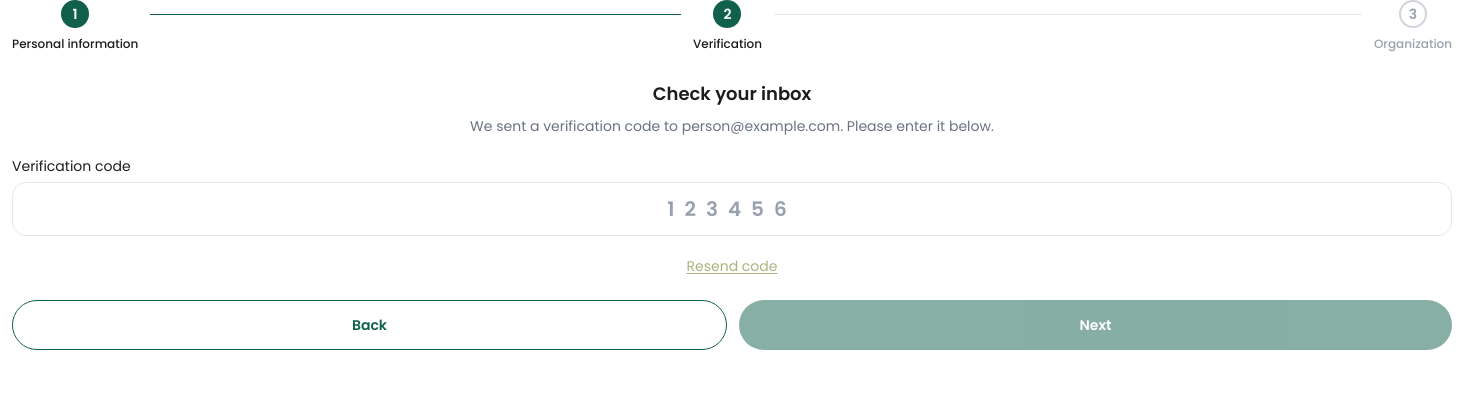
Test: SignUpVerifyForm › shows the expired-code message on a 400 CODE_EXPIRED error
Type "000000" into the field labelled "Verification code" at (732, 209), box 12,182 -> 1452,236
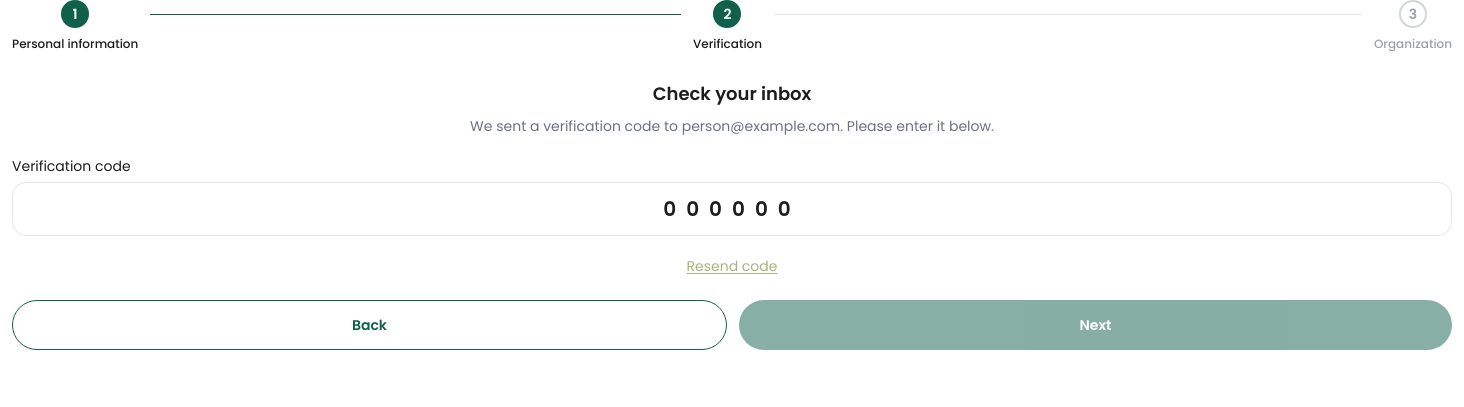
Submit the form labelled "verification code"
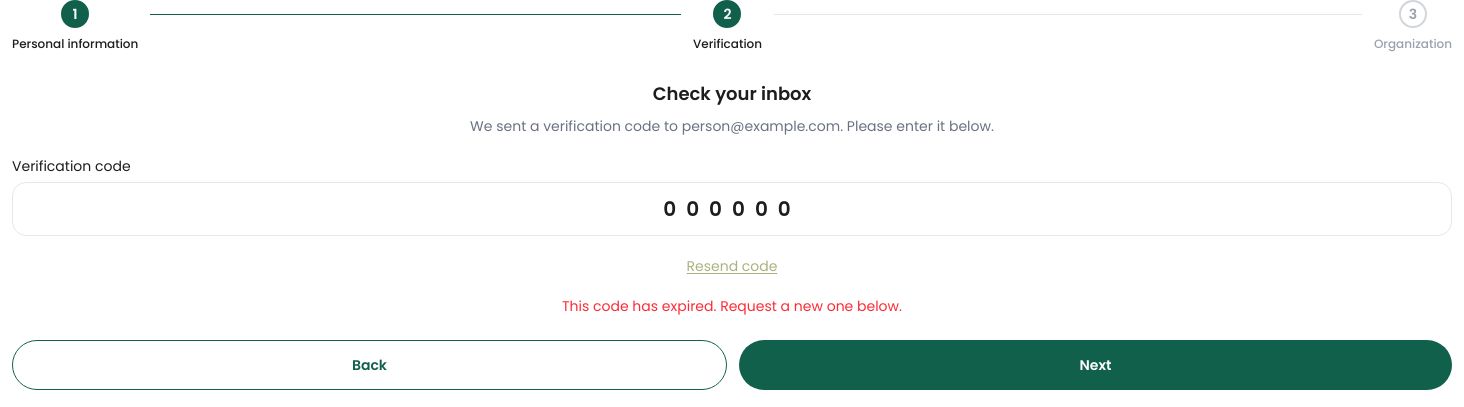
expect the text "This code has expired. Request a new one below." is shown: met, box 562,296 -> 902,316
